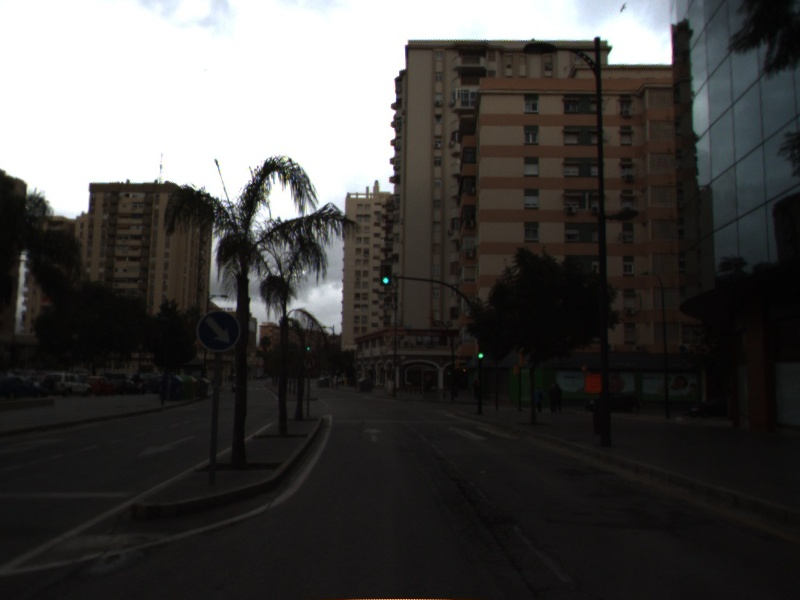STRAIGHT: (360, 425, 386, 445)
